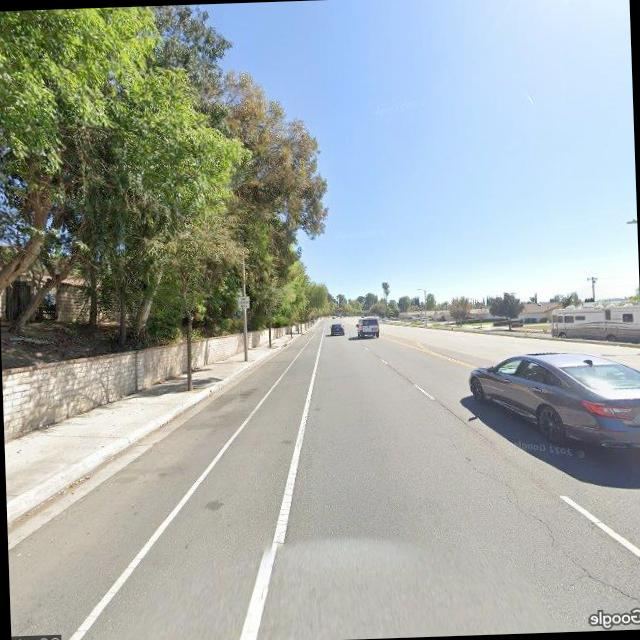pothole: (451, 433, 640, 616)
